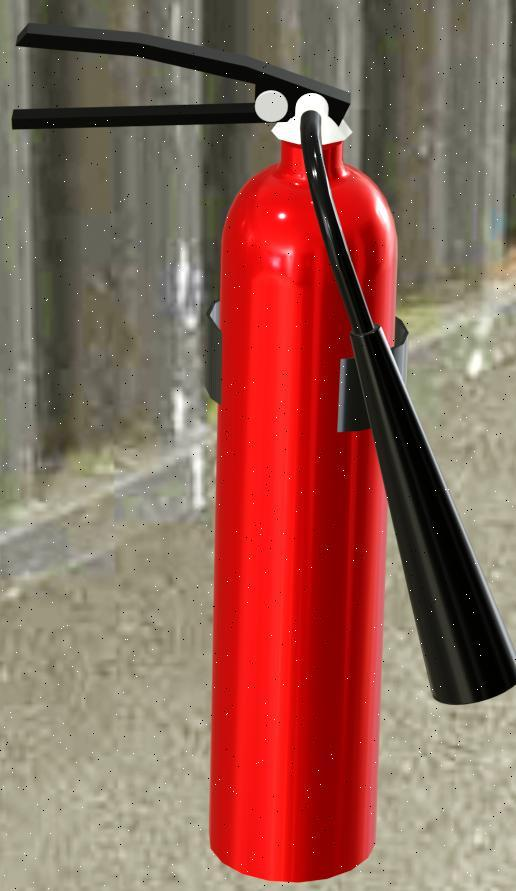Fire Extinguisher: (3, 2, 516, 885)
